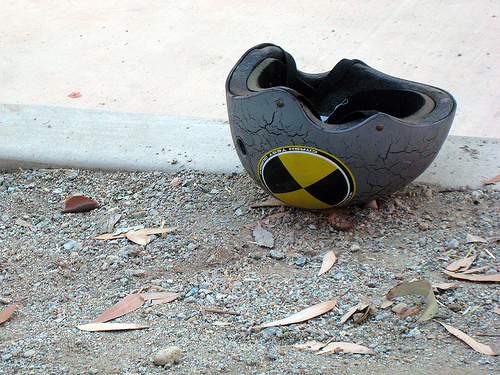helmet: (223, 43, 452, 218)
